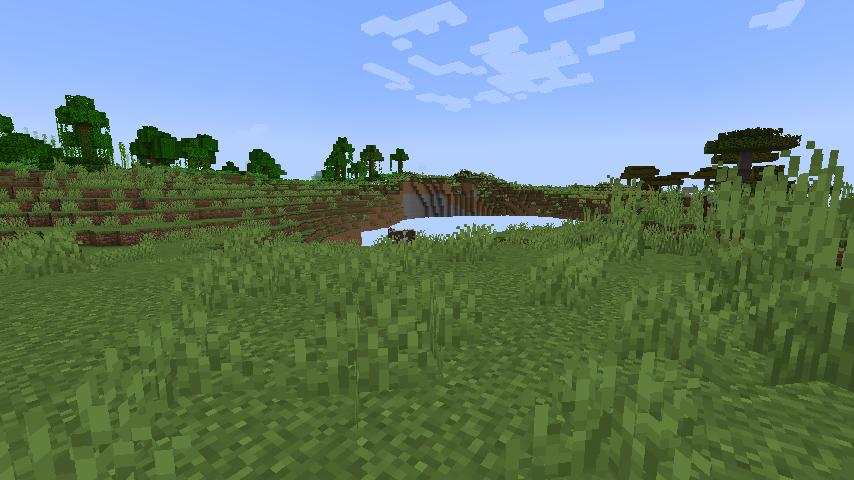cow: (386, 226, 419, 248)
